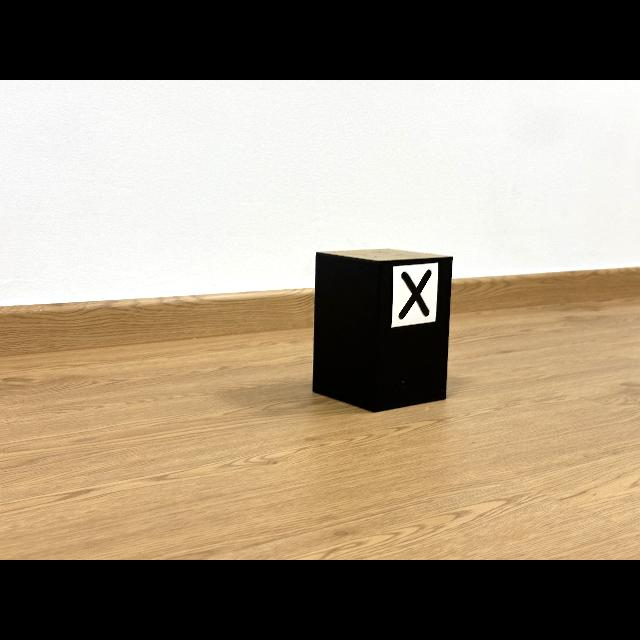X: (399, 270, 431, 319)
